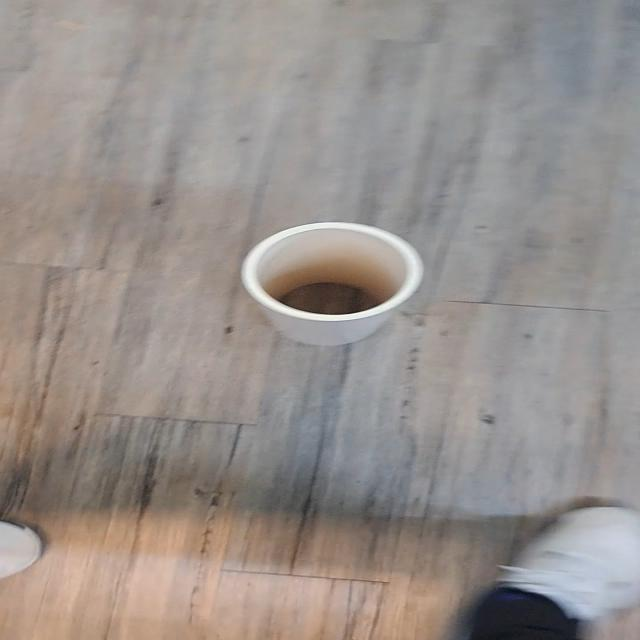CORAL: (217, 205, 449, 356)
